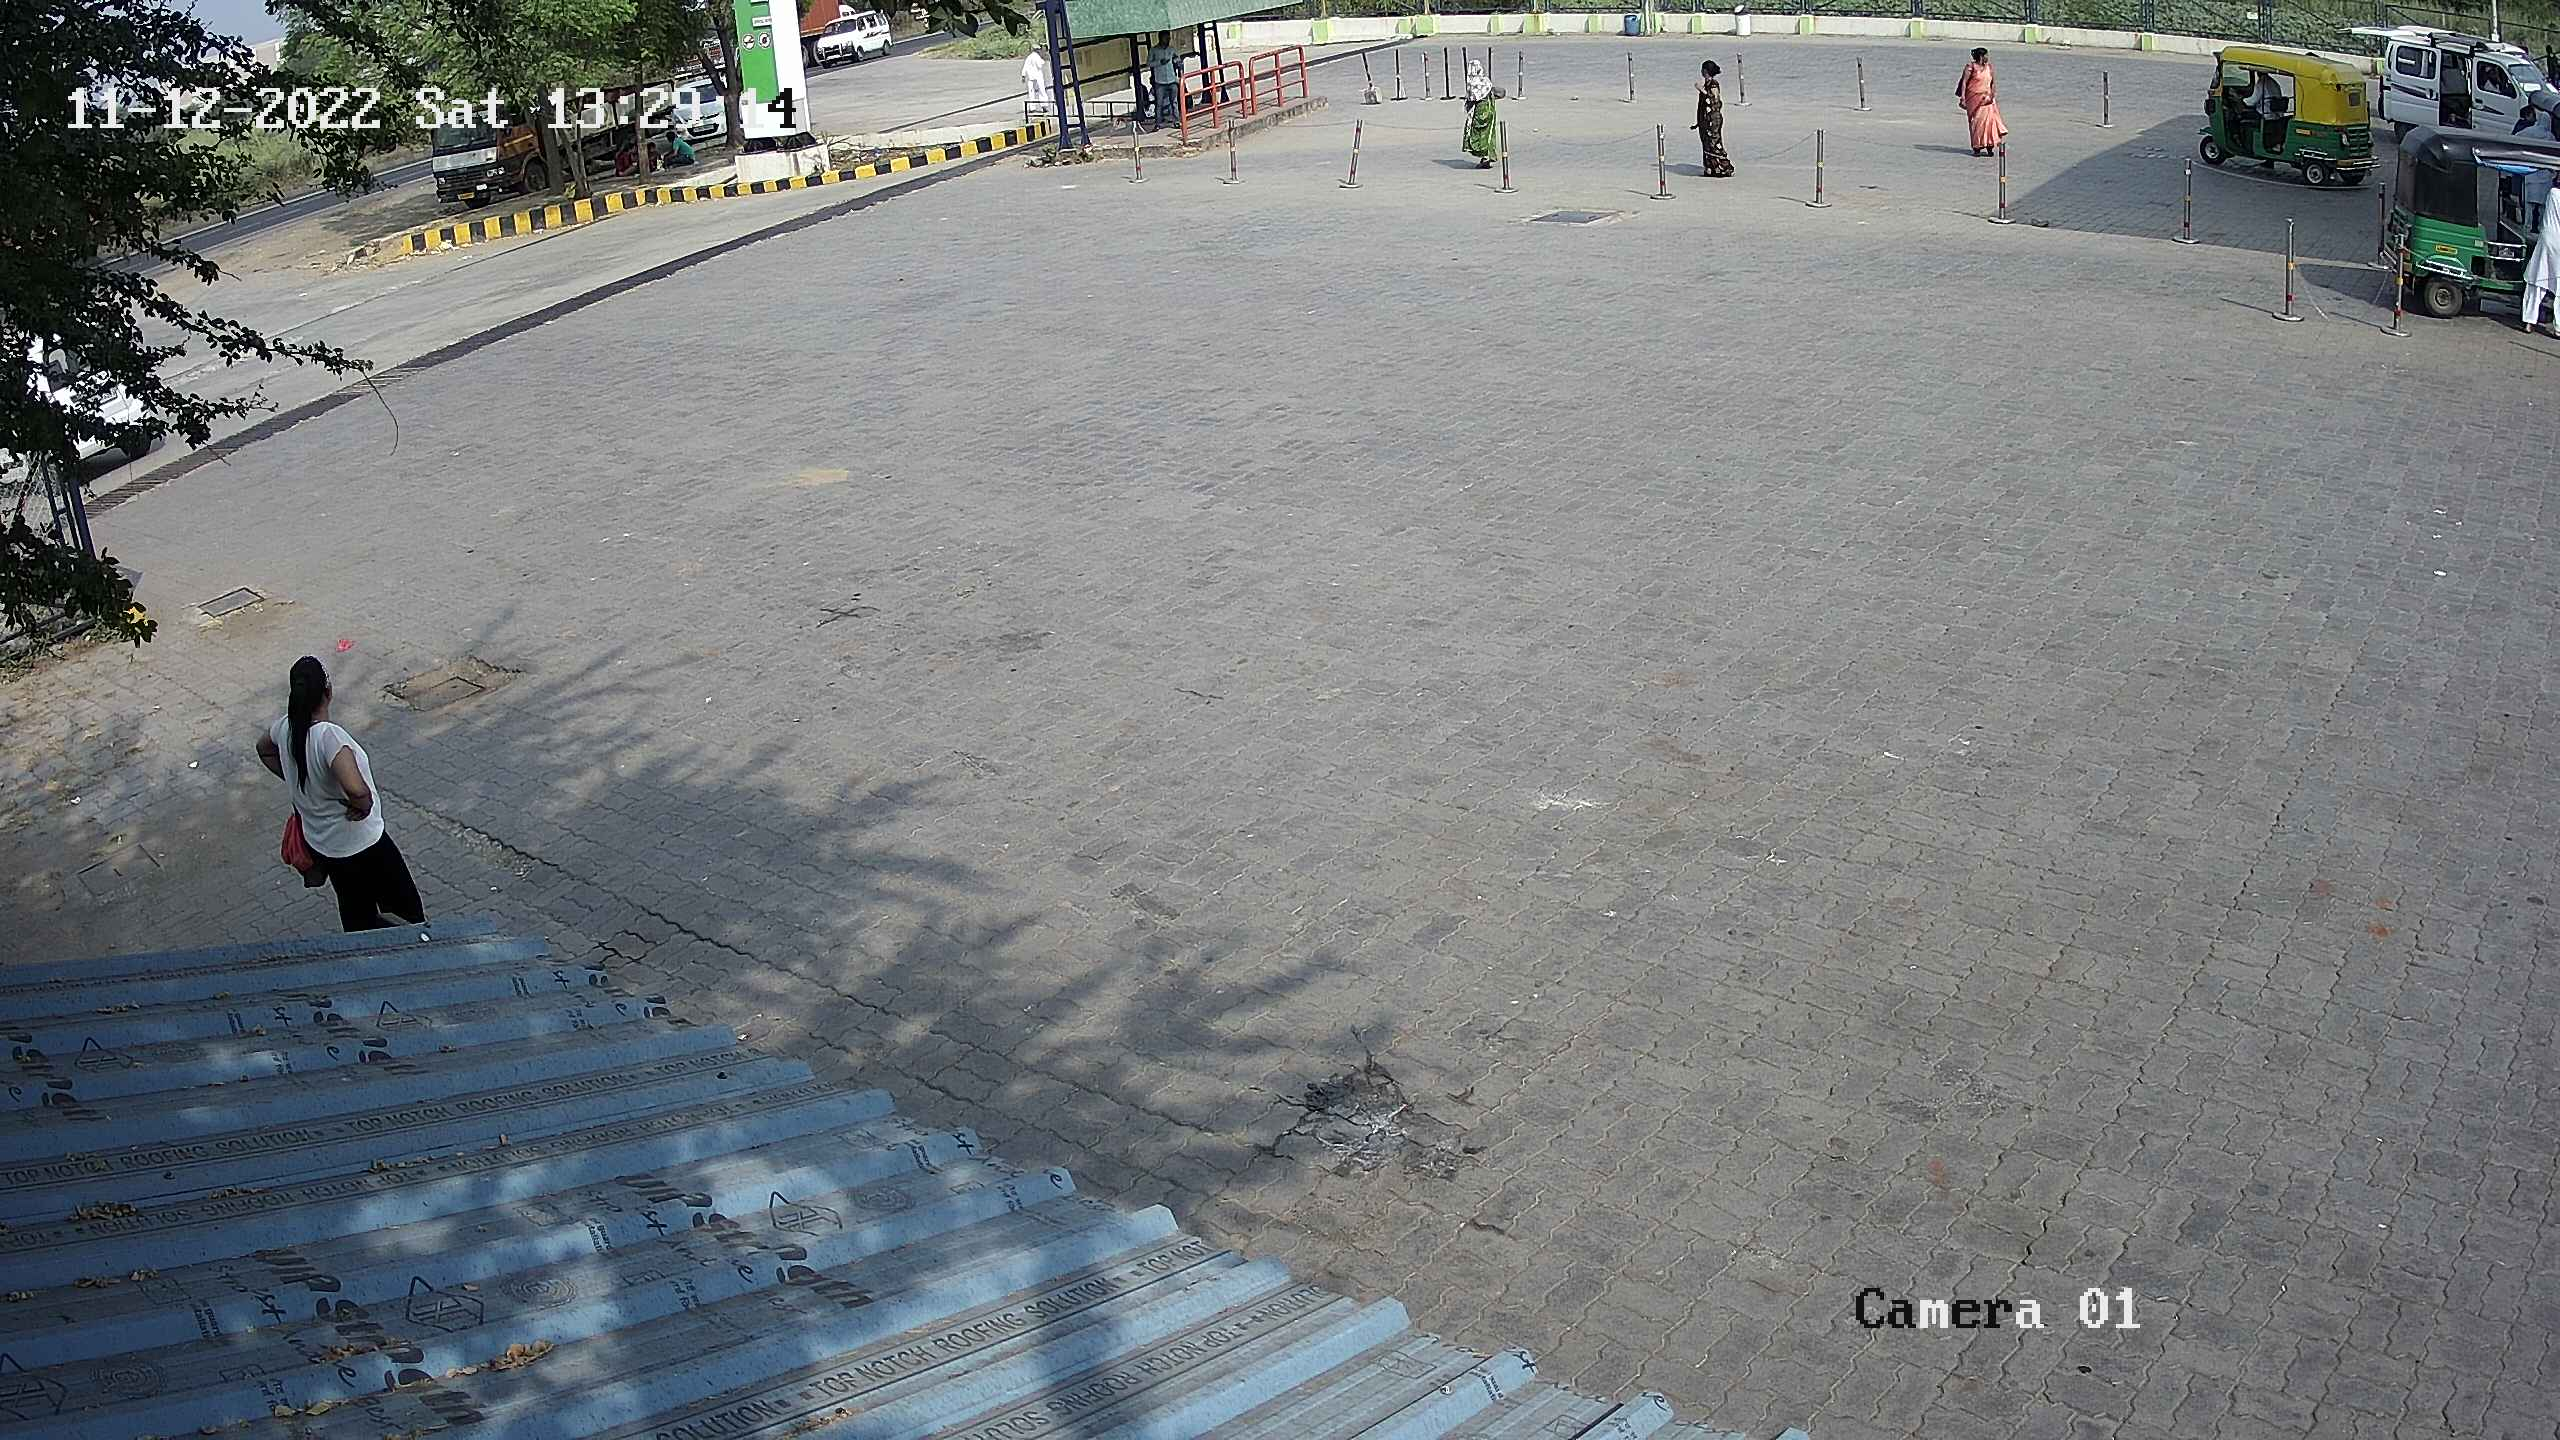Auto: (2353, 113, 2558, 345), (2193, 32, 2382, 192)
Car: (5, 271, 167, 505), (2345, 9, 2556, 155), (814, 4, 905, 74)
HMV: (413, 55, 561, 220)
